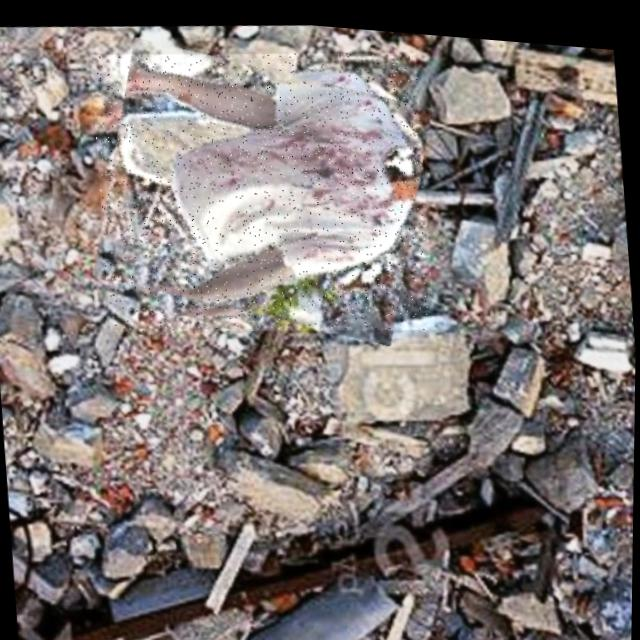Person in Rubble: (85, 25, 438, 350)
